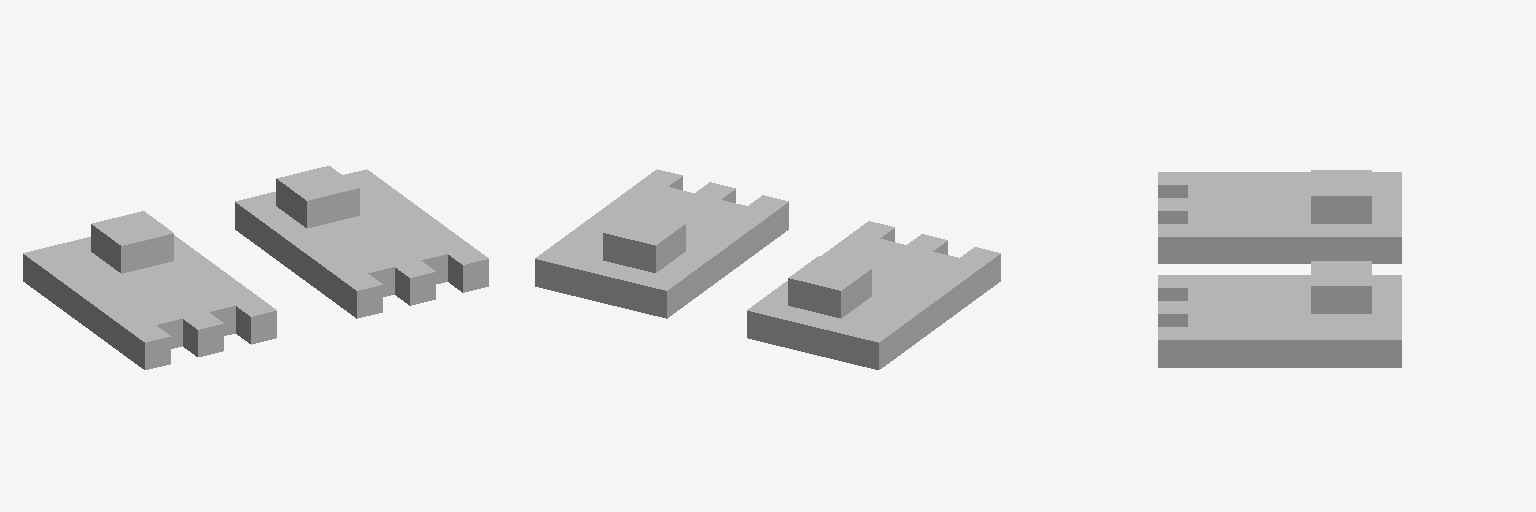
Rendered from skeletonfeet.obj.
3 views of the same model, side by side, from view 1: azimuth 30°, elevation 25°; view 2: azimuth 150°, elevation 25°; view 3: azimuth 270°, elevation 25° (orthographic).
Visible parts, largest first — view 1: SamAsSkeleton; view 2: SamAsSkeleton; view 3: SamAsSkeleton.
Part boxes in pixels (x1,y1,x2,y2): SamAsSkeleton: (23, 166, 488, 369); SamAsSkeleton: (535, 169, 1000, 369); SamAsSkeleton: (1158, 170, 1401, 367).
Size of the model in its own units: 13 by 2 by 8.